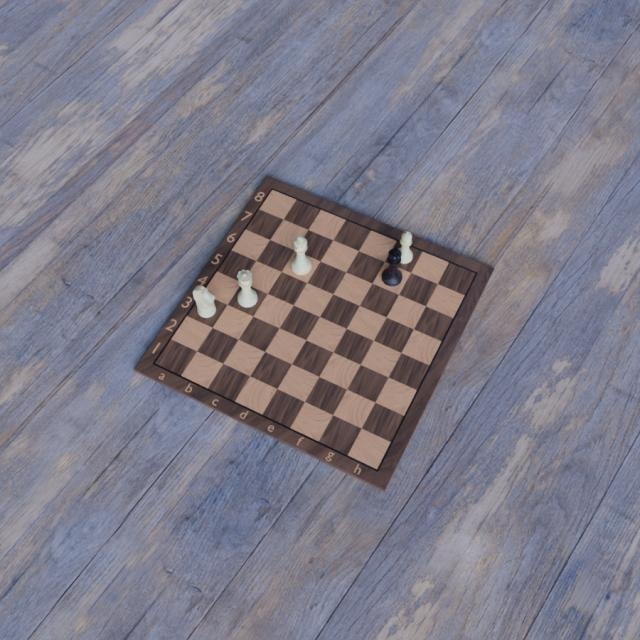black-king: (381, 247, 403, 288)
white-bishop: (396, 228, 414, 265)
white-king: (289, 235, 310, 277)
white-knight: (192, 285, 218, 319)
white-queen: (237, 268, 259, 310)
